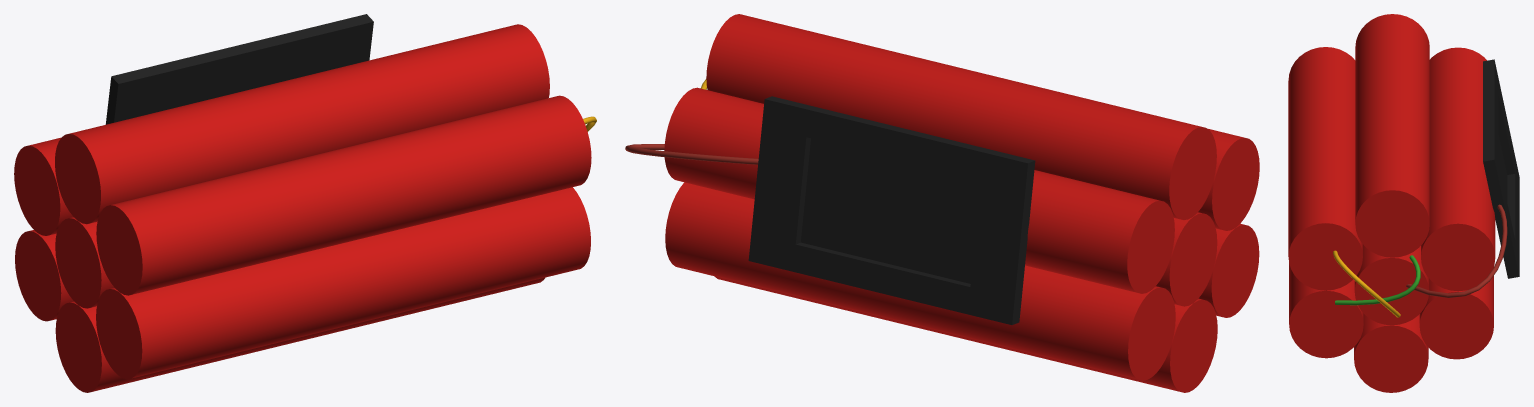
Rendered from dinomit.fbx.
The picture shows the model from 3 angles, left to right: view 1: azimuth 30°, elevation 25°; view 2: azimuth 150°, elevation 25°; view 3: azimuth 270°, elevation 25°; orthographic projection. The views are drawn at different scales.
Visible parts, largest first — view 1: Cylinder.005, Cylinder.006, Cylinder.002, Cube, Cylinder, Cylinder.004, Cylinder.001, Cylinder.003; view 2: Cube, Cylinder.002, Cylinder.003, Cylinder.004, Cylinder, Cylinder.005, Cylinder.001, Cylinder.006, BezierCurve; view 3: Cylinder.002, Cylinder.005, Cylinder.004, Cube, Cylinder.006, Cylinder, Cylinder.003, Cylinder.001, BezierCurve, BezierCurve.001, BezierCurve.002.
Boxes of the visible parts, x1,y1,x2,y2 form: Cylinder.005: (96, 95, 591, 295); Cylinder.006: (96, 187, 590, 379); Cylinder.002: (55, 24, 549, 224); Cube: (105, 14, 373, 124); Cylinder: (55, 277, 544, 392); Cylinder.004: (14, 137, 73, 235); Cylinder.001: (55, 217, 114, 308); Cylinder.003: (15, 230, 73, 321); Cube: (748, 96, 1035, 324); Cylinder.002: (706, 14, 1216, 219); Cylinder.003: (665, 182, 1175, 380); Cylinder.004: (664, 87, 1174, 293); Cylinder: (714, 276, 1217, 392); Cylinder.005: (1198, 129, 1259, 230); Cylinder.001: (1156, 212, 1217, 306); Cylinder.006: (1198, 223, 1259, 317); BezierCurve: (625, 144, 758, 164); Cylinder.002: (1355, 14, 1429, 257); Cylinder.005: (1288, 47, 1362, 290); Cylinder.004: (1421, 47, 1495, 291); Cube: (1483, 59, 1519, 278); Cylinder.006: (1289, 263, 1363, 358); Cylinder: (1354, 314, 1428, 392); Cylinder.003: (1419, 267, 1493, 359); Cylinder.001: (1354, 244, 1429, 325); BezierCurve: (1406, 204, 1507, 297); BezierCurve.001: (1335, 255, 1420, 305); BezierCurve.002: (1333, 250, 1400, 317).
Size of the model in its own units: 392 by 189 by 195.
